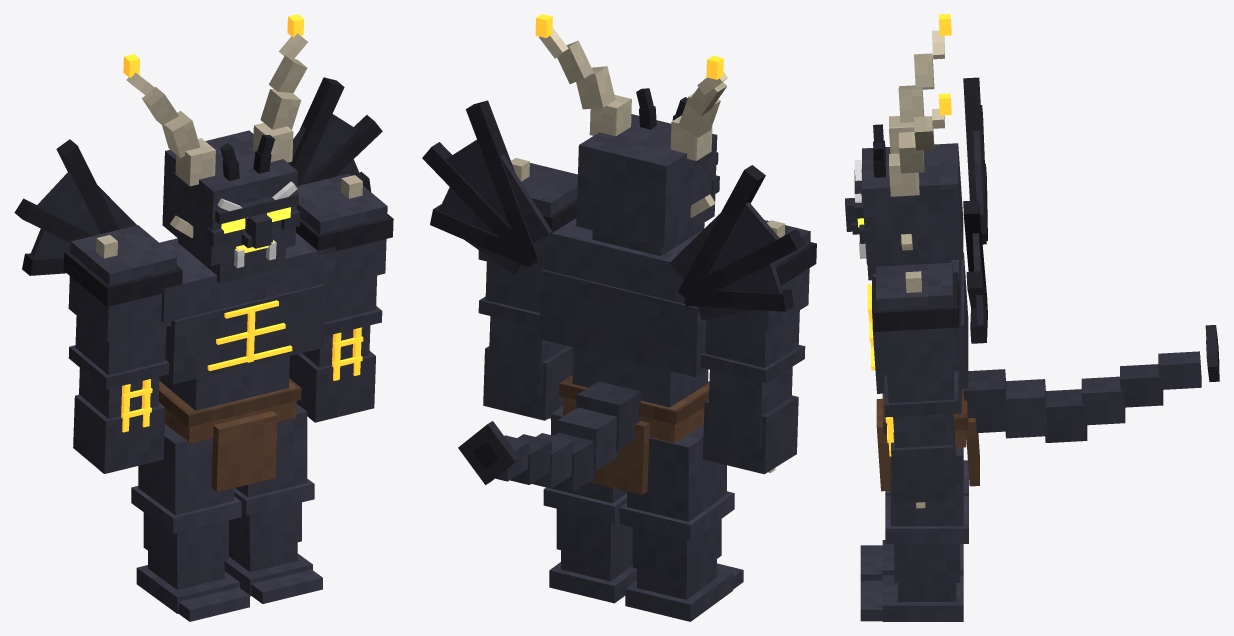
The model's file is demon_base_v3_evo2.glb.
3 renders of one model, left to right at view 1: azimuth 30°, elevation 25°; view 2: azimuth 150°, elevation 25°; view 3: azimuth 270°, elevation 25°, orthographic. The views are drawn at different scales.
Parts seen in each view (by area): view 1: Torso, Head, ArmR, ArmL, LegR, LegL; view 2: Torso, Head, ArmR, LegR, ArmL, LegL; view 3: Torso, ArmL, Head, LegL, LegR.
Part boxes in pixels (box(x1,y1,x2,y2)): Torso: box(14, 77, 382, 492); Head: box(123, 14, 307, 283); ArmR: box(63, 225, 182, 473); ArmL: box(289, 173, 393, 422); LegR: box(131, 424, 249, 621); LegL: box(224, 404, 322, 603); Torso: box(422, 100, 805, 494); Head: box(535, 14, 727, 256); ArmR: box(700, 220, 816, 474); LegR: box(619, 424, 743, 621); ArmL: box(478, 158, 577, 420); LegL: box(543, 405, 636, 603); Torso: box(867, 77, 1219, 491); ArmL: box(872, 262, 959, 508); Head: box(845, 14, 963, 280); LegL: box(860, 447, 968, 621); LegR: box(860, 460, 968, 580).
Size of the model in its own units: 1.58 by 2.25 by 1.44.
29 materials, 29 textured.
